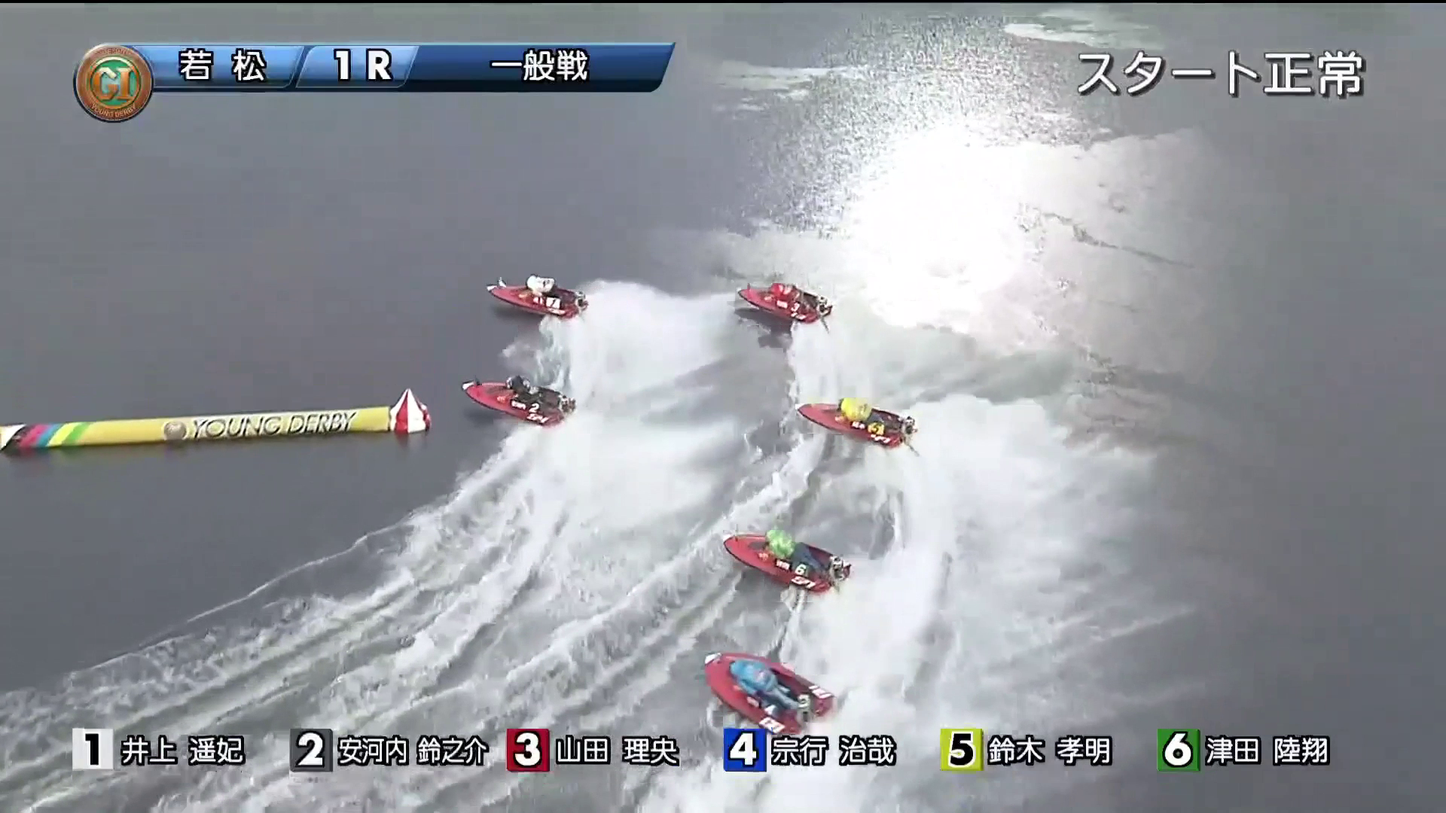１号艇: (482, 287, 553, 340)
２号艇: (438, 373, 567, 433)
３号艇: (734, 277, 832, 324)
４号艇: (708, 529, 842, 594)
５号艇: (705, 665, 828, 720)
６号艇: (797, 379, 897, 460)
